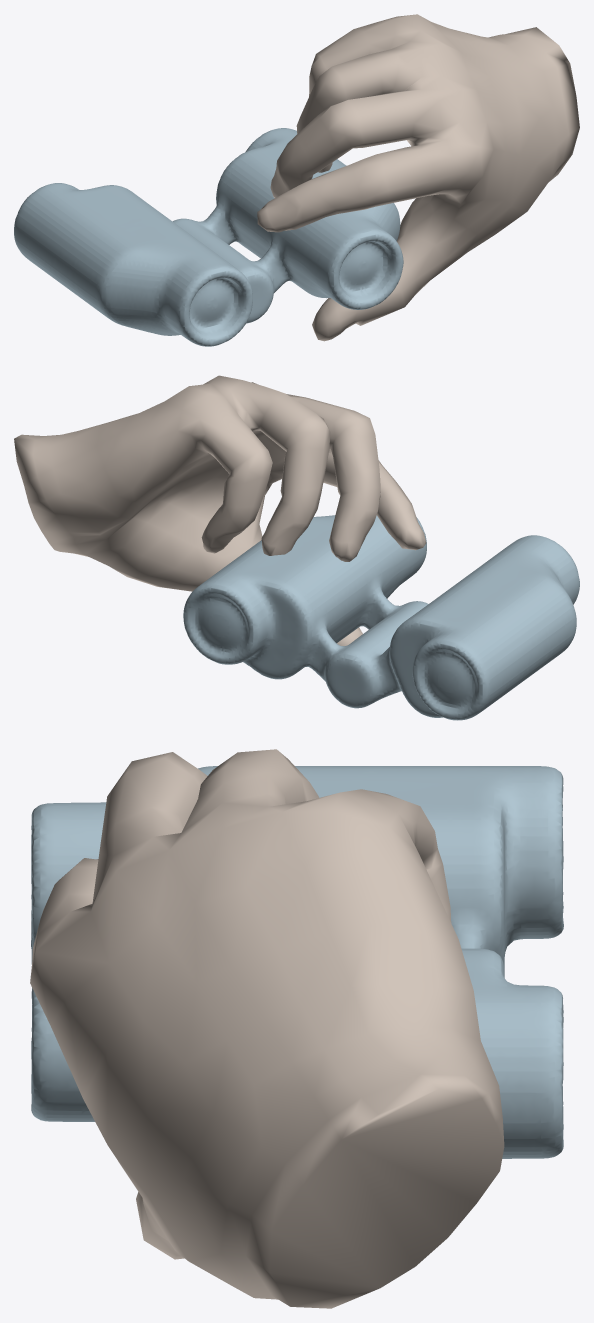
Rendered from ours_2.glb.
3 renders of one model, top to bottom at view 1: azimuth 30°, elevation 25°; view 2: azimuth 150°, elevation 25°; view 3: azimuth 270°, elevation 25°, orthographic. The views are drawn at different scales.
Size of the model in its own units: 0.238 by 0.1213 by 0.1092.
